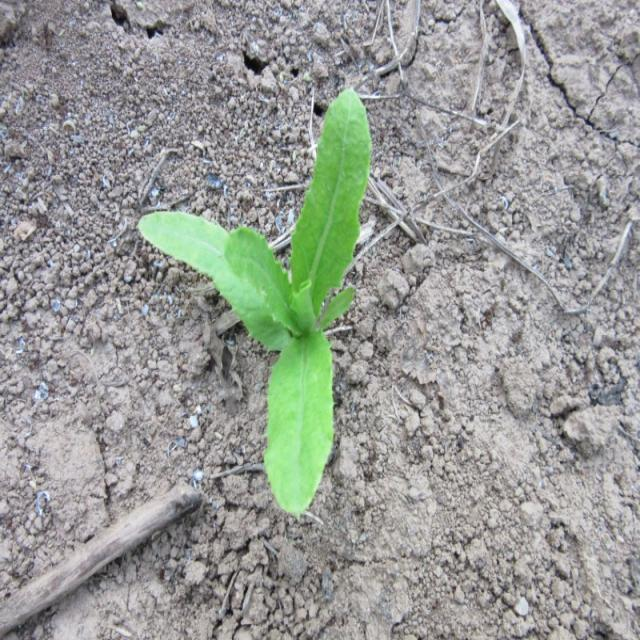cs: (138, 88, 374, 518)
